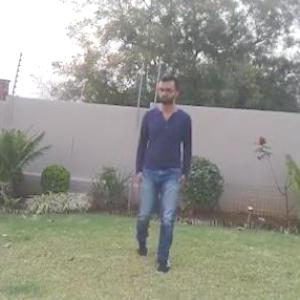follow: (131, 66, 193, 274)
